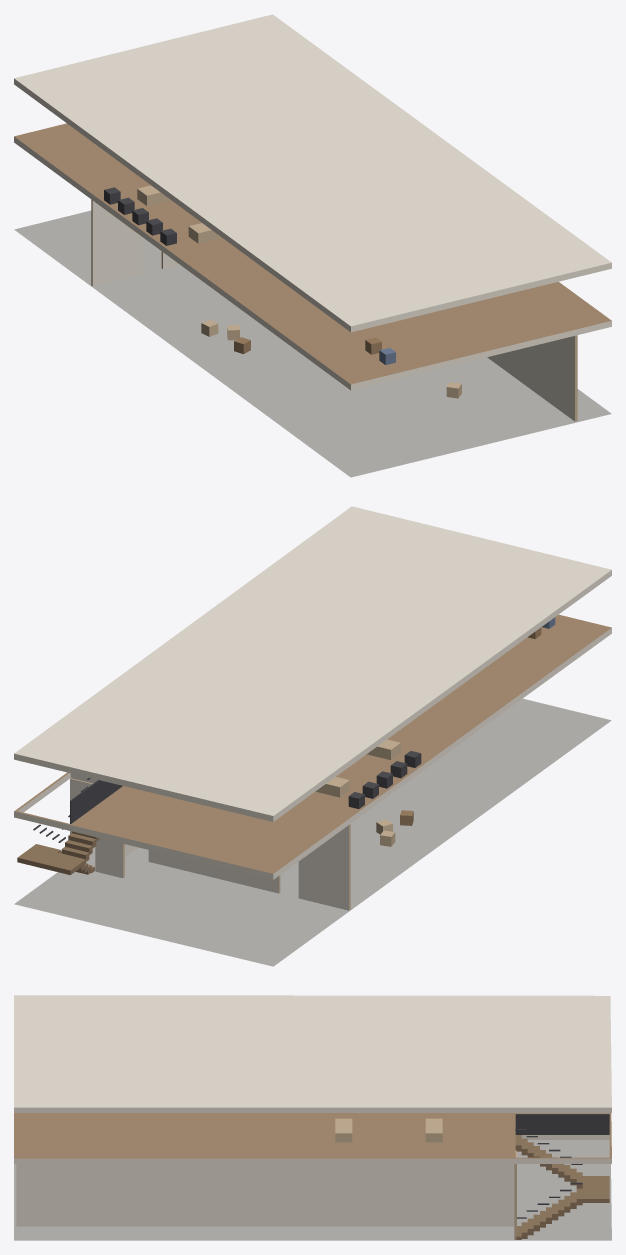
The model's file is interior.glb.
3 renders of one model, top to bottom at view 1: azimuth 30°, elevation 25°; view 2: azimuth 150°, elevation 25°; view 3: azimuth 270°, elevation 25°, orthographic. The views are drawn at different scales.
Visible parts, largest first — view 1: slabs, partitions, coarse-s1, coarse-s0; view 2: slabs, partitions, stair, coarse-s1, coarse-s0; view 3: slabs, partitions, stair, coarse-s1.
Boxes of the visible parts, x1,y1,x2,y2 form: slabs: (14,14,611,477); partitions: (91,199,577,421); coarse-s1: (104,185,395,364); coarse-s0: (201,319,461,398); slabs: (14,506,611,966); partitions: (70,778,350,910); stair: (17,777,122,874); coarse-s1: (315,617,555,808); coarse-s0: (376,810,413,846); slabs: (14,995,611,1240); partitions: (16,1150,516,1239); stair: (515,1114,609,1239); coarse-s1: (335,1118,442,1142).
Size of the model in its own units: 11.77 by 6.53 by 26.47.
